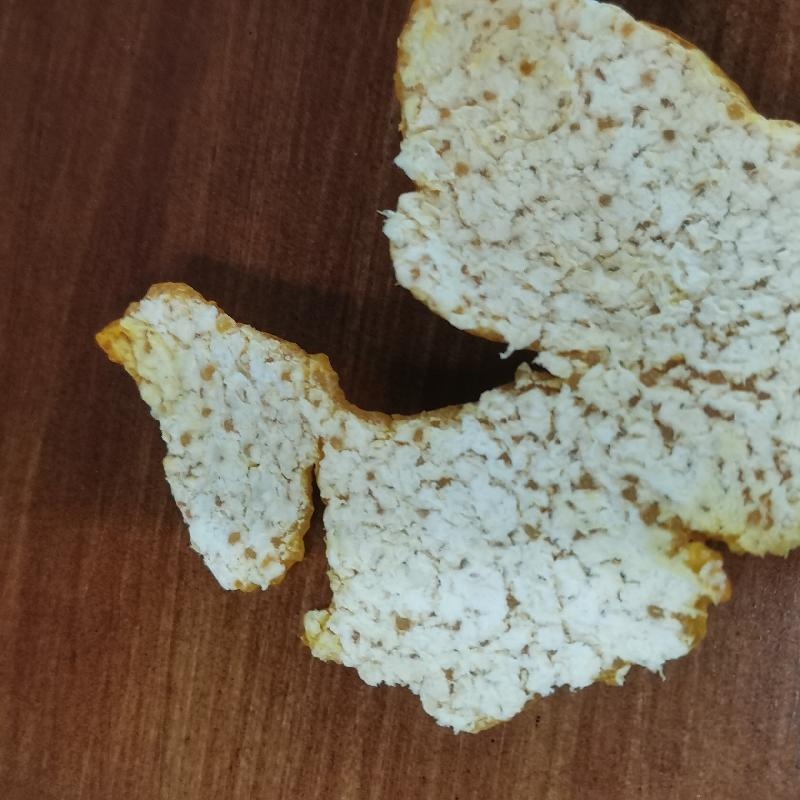orange: (98, 3, 800, 731)
